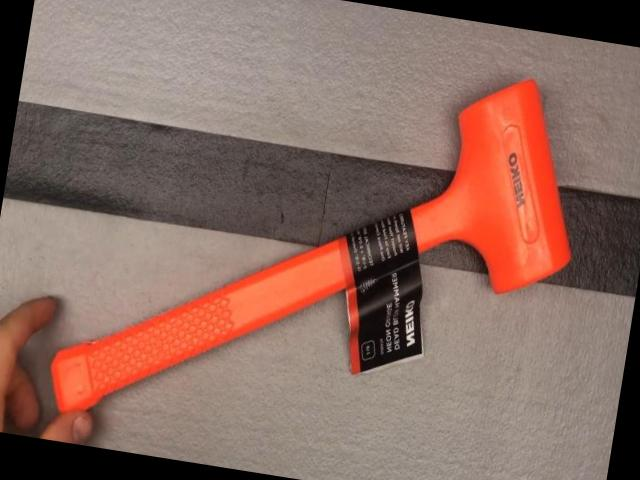hammer: (43, 12, 598, 480)
